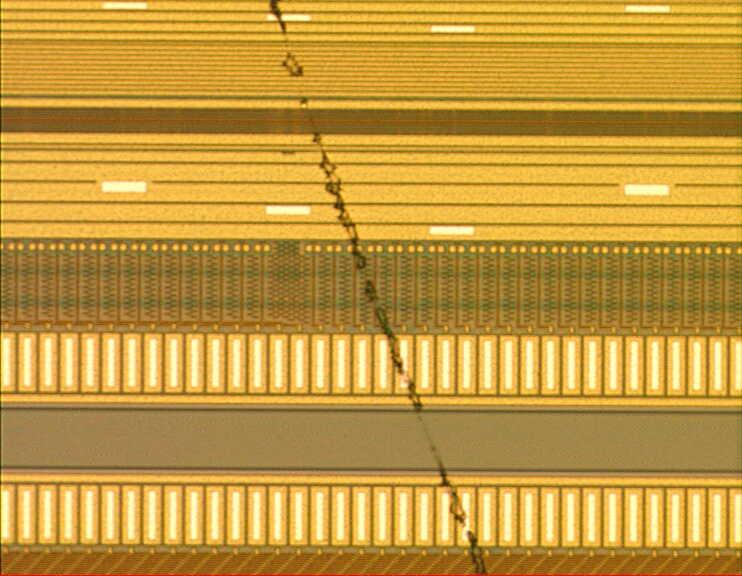SCRATCH: (262, 1, 496, 576)
